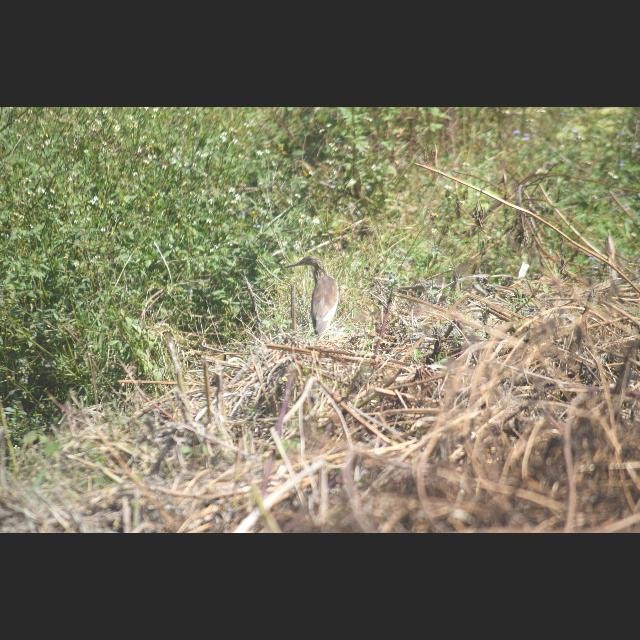heron: (286, 250, 344, 348)
